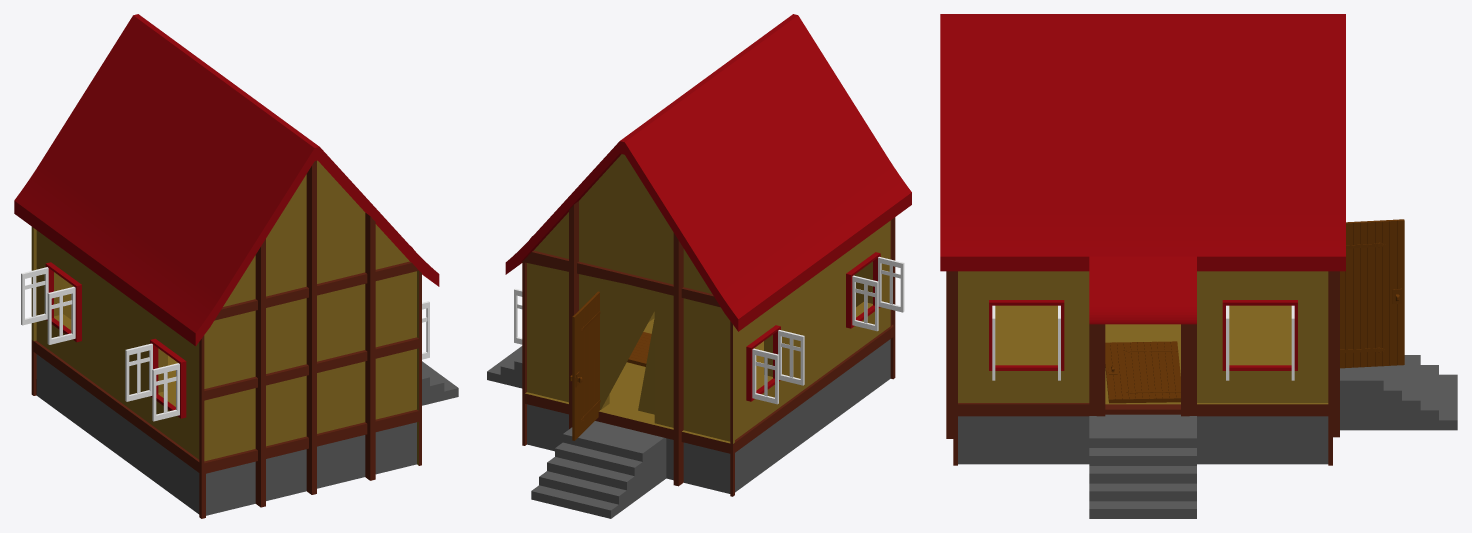
Rendered from cornerhouse_fixed.fbx.
The picture shows the model from 3 angles, left to right: view 1: azimuth 30°, elevation 25°; view 2: azimuth 150°, elevation 25°; view 3: azimuth 270°, elevation 25°; orthographic projection. The views are drawn at different scales.
Parts seen in each view (by area): view 1: House.001, Woods.001, Woods, Concrete, Windows.001, Windows, Stairs; view 2: House.001, Woods.001, Woods, Concrete, Stairs.001, Windows.001, Doors.001, Windows, Stairs, Doors; view 3: House.001, Woods.001, Concrete, Woods, Stairs, Doors.001, Stairs.001, Doors, Windows, Windows.001.
Boxes of the visible parts, x1=… form: House.001: x1=14, y1=14, x2=439, y2=346; Woods.001: x1=31, y1=160, x2=418, y2=465; Woods: x1=31, y1=160, x2=421, y2=518; Concrete: x1=36, y1=354, x2=416, y2=515; Windows.001: x1=21, y1=267, x2=429, y2=421; Windows: x1=45, y1=262, x2=186, y2=418; Stairs: x1=422, y1=361, x2=458, y2=405; House.001: x1=505, y1=14, x2=911, y2=331; Woods.001: x1=525, y1=154, x2=890, y2=443; Woods: x1=522, y1=201, x2=895, y2=496; Concrete: x1=527, y1=339, x2=890, y2=493; Stairs.001: x1=531, y1=421, x2=666, y2=518; Windows.001: x1=514, y1=256, x2=904, y2=404; Doors.001: x1=569, y1=291, x2=600, y2=440; Windows: x1=746, y1=252, x2=880, y2=401; Stairs: x1=487, y1=346, x2=522, y2=388; Doors: x1=627, y1=332, x2=651, y2=366; House.001: x1=940, y1=14, x2=1345, y2=324; Woods.001: x1=958, y1=271, x2=1328, y2=404; Concrete: x1=958, y1=416, x2=1328, y2=464; Woods: x1=946, y1=271, x2=1339, y2=465; Stairs: x1=1089, y1=414, x2=1196, y2=518; Doors.001: x1=1340, y1=219, x2=1404, y2=368; Stairs.001: x1=1340, y1=355, x2=1457, y2=430; Doors: x1=1105, y1=341, x2=1180, y2=403; Windows: x1=989, y1=300, x2=1297, y2=370; Windows.001: x1=992, y1=305, x2=1294, y2=380.
Bounding box in the file's own units: 1449 × 1394 × 1676.
